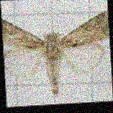Spodoptera litura: (3, 12, 110, 96)
